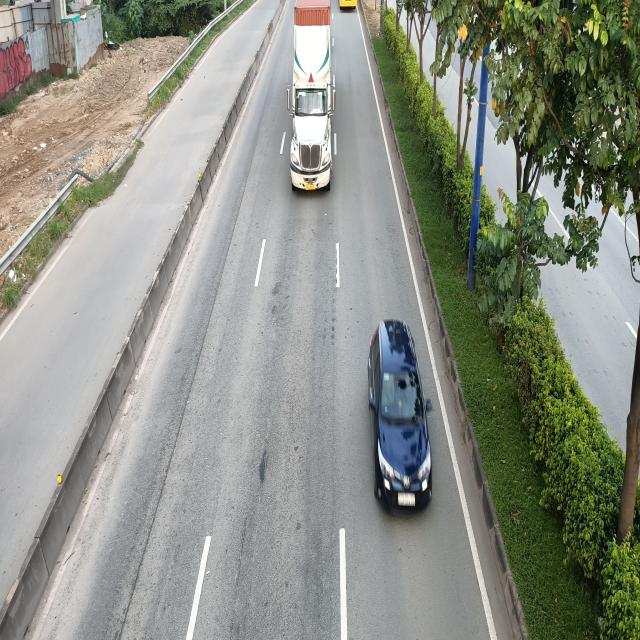car: (368, 320, 434, 511)
container: (286, 0, 336, 189)
